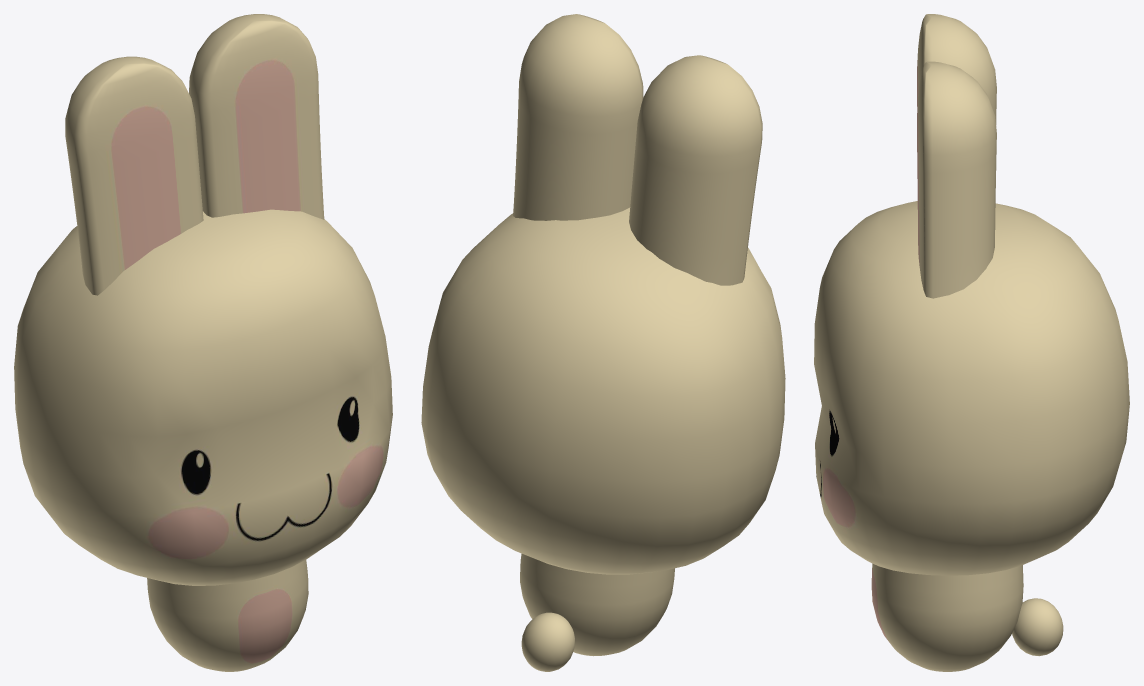
Rendered from Bunny.FBX.
3 views of the same model, side by side, from view 1: azimuth 30°, elevation 25°; view 2: azimuth 150°, elevation 25°; view 3: azimuth 270°, elevation 25° (orthographic). The views are drawn at different scales.
Visible parts, largest first — view 1: Rabbit; view 2: Rabbit; view 3: Rabbit.
Part boxes in pixels (box(x1,y1,x2,y2)): Rabbit: box(14, 14, 392, 671); Rabbit: box(421, 14, 785, 671); Rabbit: box(814, 14, 1129, 671).
Bounding box in the file's own units: 90.43 × 169 × 79.7.
Materials: 1 (1 with a texture image).
